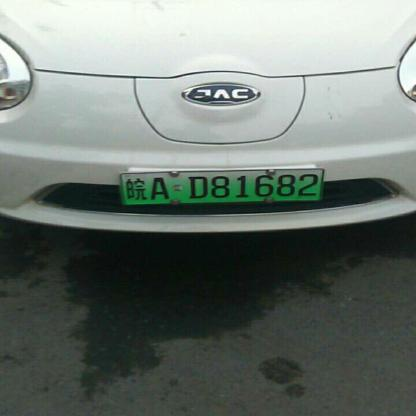lp: (120, 168, 324, 206)
